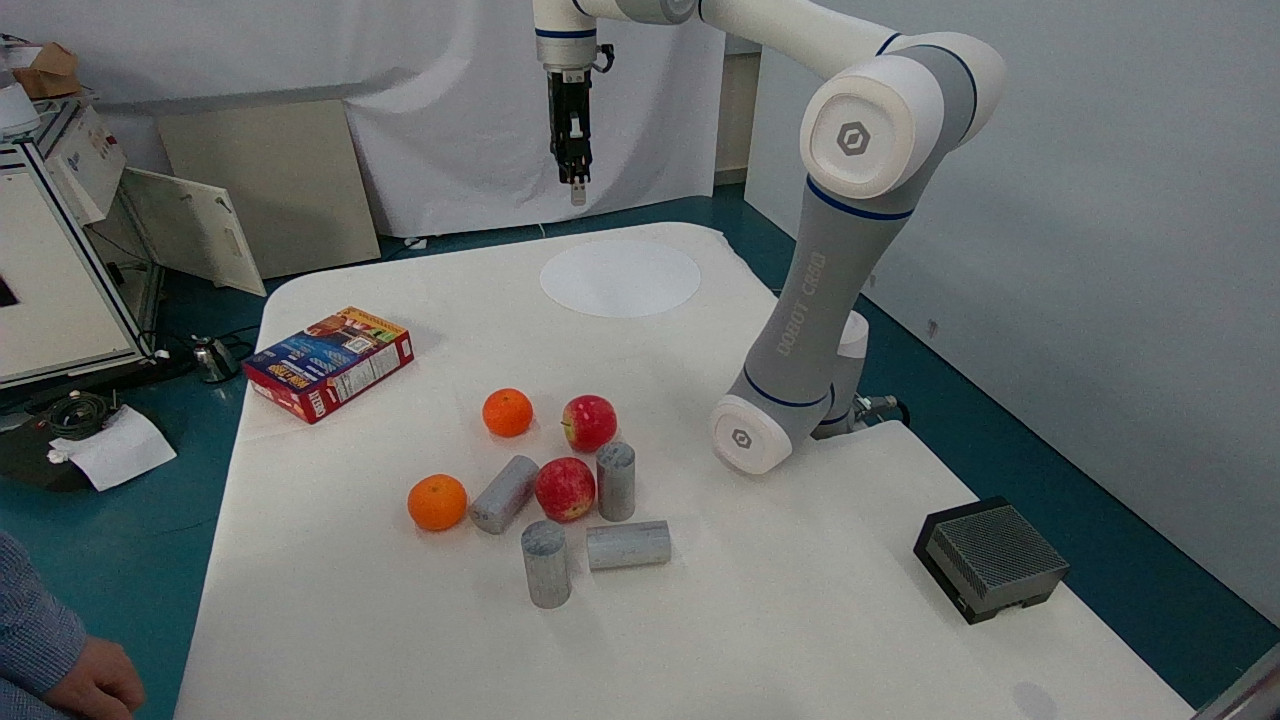apple: (524, 438, 601, 523), (555, 381, 633, 454)
metal rod: (470, 443, 548, 536), (578, 509, 677, 579), (512, 507, 576, 615), (588, 427, 651, 524)
orange: (402, 463, 473, 535), (474, 378, 548, 445)
